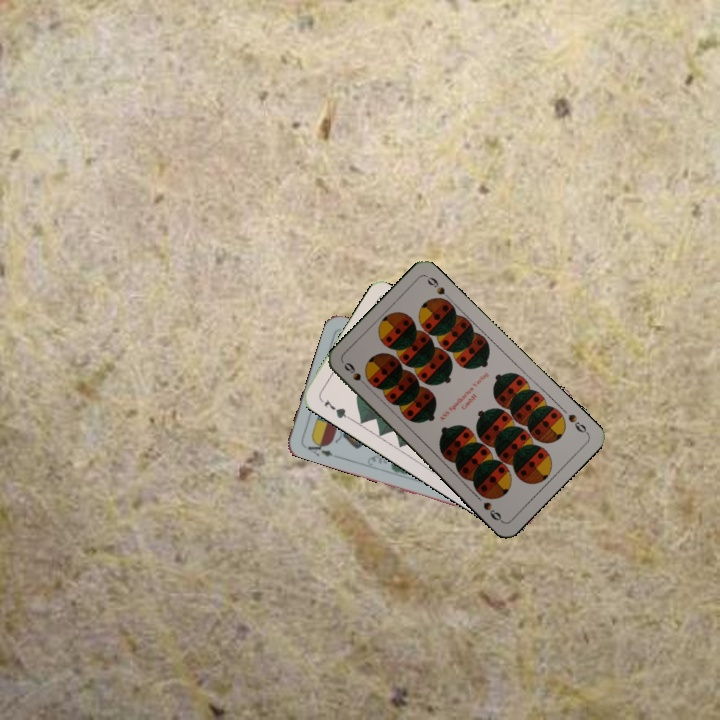EA: (300, 436, 340, 460)
G7: (316, 394, 352, 421)
S9: (340, 358, 372, 391), (564, 410, 591, 437)
